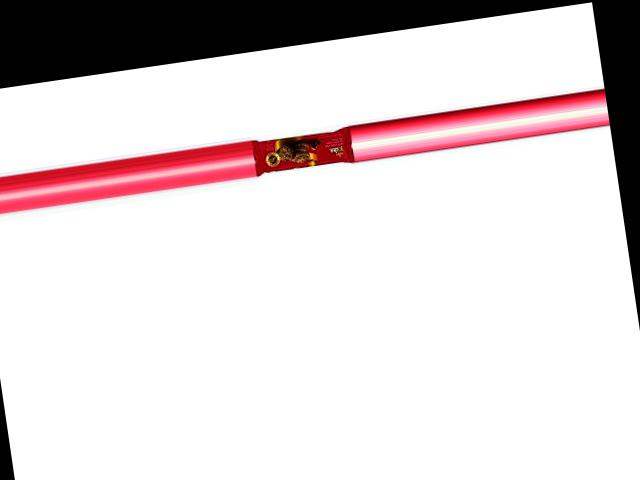chocolate: (253, 122, 355, 175)
